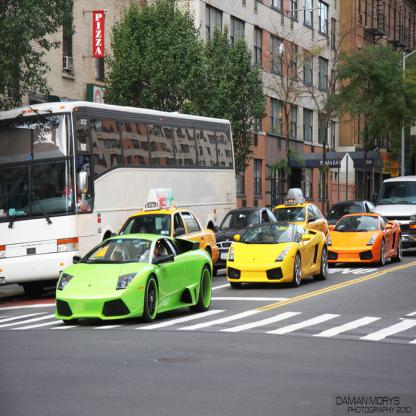Car: (57, 175, 416, 317)
